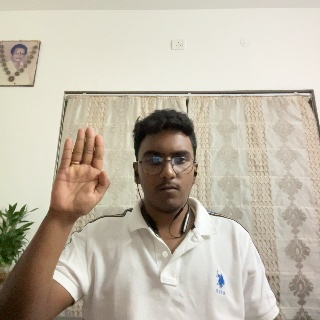Face: (133, 112, 203, 217)
Hello: (47, 129, 108, 231)
